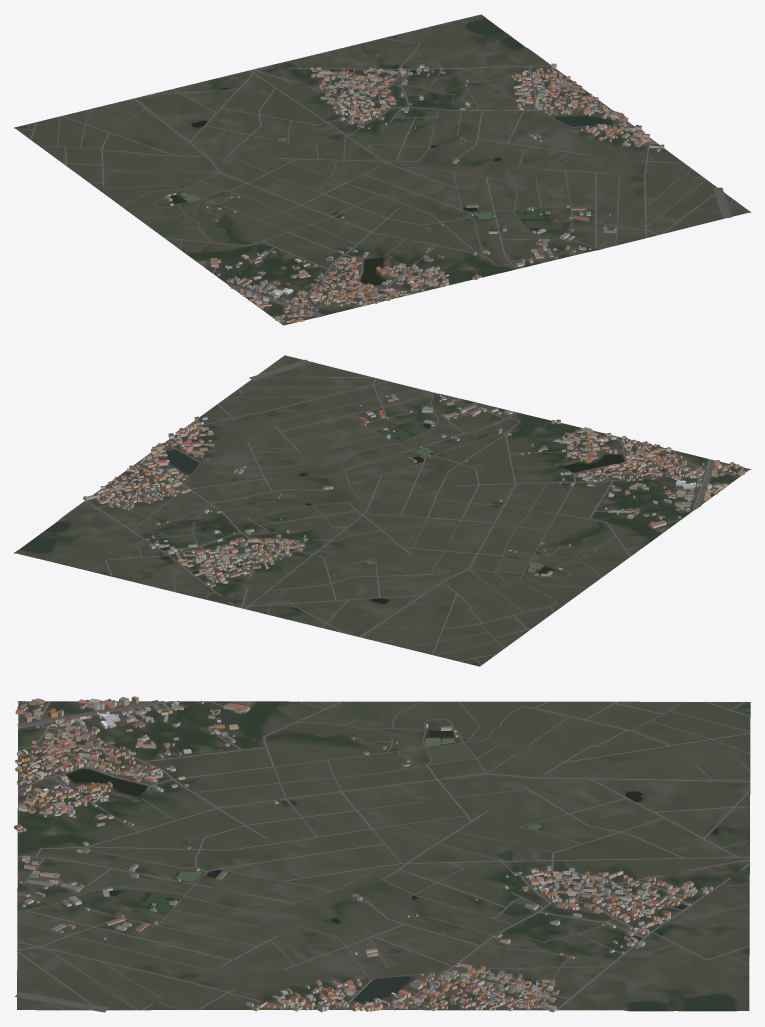
3 renders of one model, top to bottom at view 1: azimuth 30°, elevation 25°; view 2: azimuth 150°, elevation 25°; view 3: azimuth 270°, elevation 25°, orthographic. The views are drawn at different scales.
Parts seen in each view (by area): view 1: ground, buildings, roads, water; view 2: ground, buildings, roads, water; view 3: ground, buildings, roads, water.
Part boxes in pixels (bbox=[...]): ground: bbox=[14, 14, 750, 325]; buildings: bbox=[164, 63, 664, 322]; roads: bbox=[16, 38, 733, 325]; water: bbox=[169, 18, 612, 316]; ground: bbox=[14, 355, 750, 666]; buildings: bbox=[83, 394, 745, 587]; roads: bbox=[85, 359, 750, 665]; water: bbox=[20, 393, 712, 610]; ground: bbox=[17, 701, 750, 1011]; buildings: bbox=[14, 696, 712, 1012]; roads: bbox=[15, 700, 750, 1012]; water: bbox=[17, 701, 734, 1010].
Size of the model in its own units: 1414 by 17.94 by 1411.
